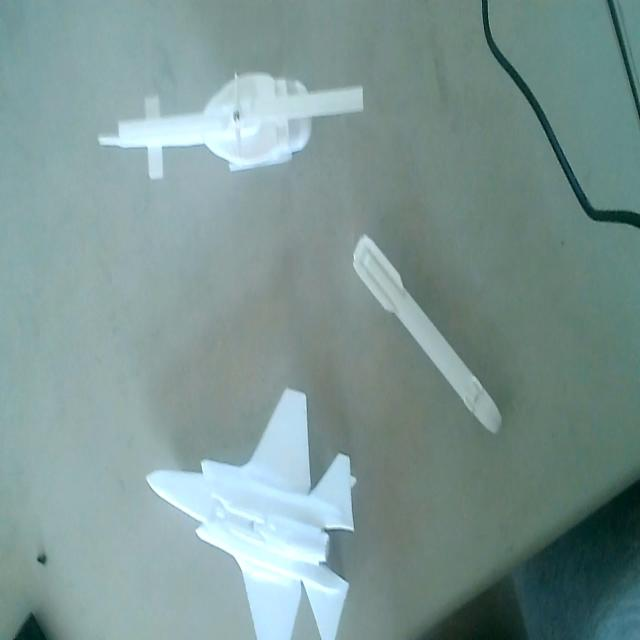Helicopter: (91, 71, 366, 171)
Jet: (145, 386, 355, 640)
Rocket: (351, 232, 507, 439)
